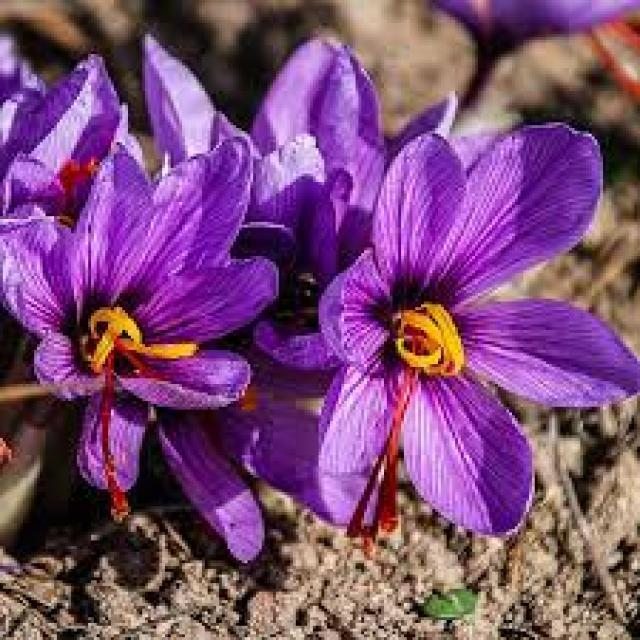Flower: (323, 123, 640, 569), (0, 169, 314, 486)
stigma: (372, 374, 424, 531), (93, 353, 134, 527)
